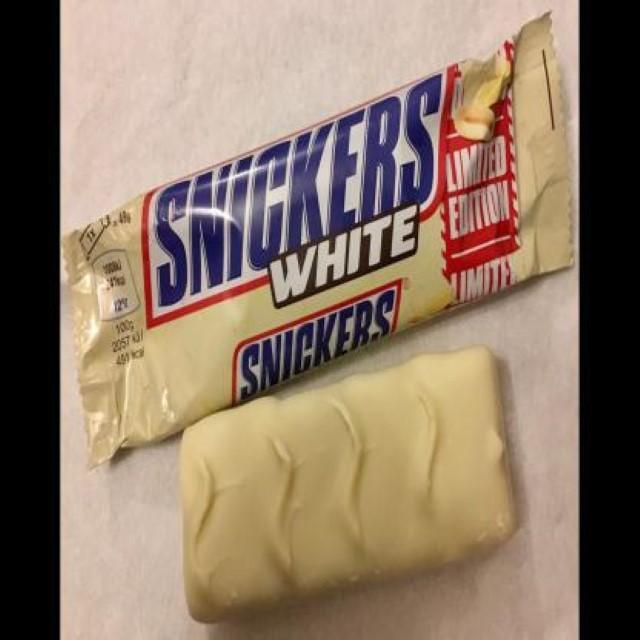snickers_chocolate: (87, 57, 565, 413)
